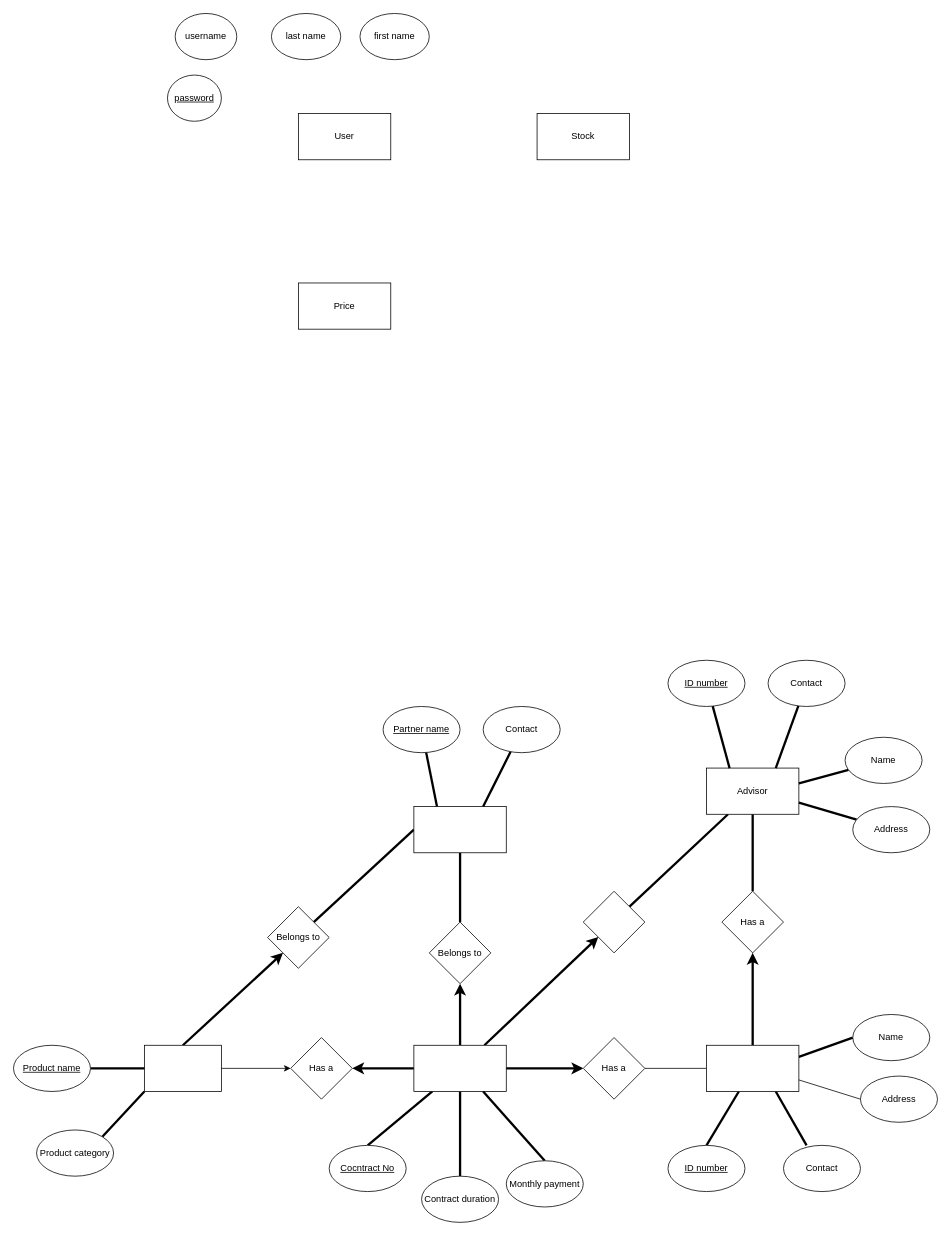
Some shapes in this 951 by 1236 pixel diagram are drawn without their labels. The shapes that lost their labels are listed below. From the top down, each one's centre as x and y in pixels, then its label:
At (459,829): "Partner".
At (614,922): "Signed a".
At (182,1068): "Product".
At (459,1068): "Contract".
At (752,1068): "Client".
